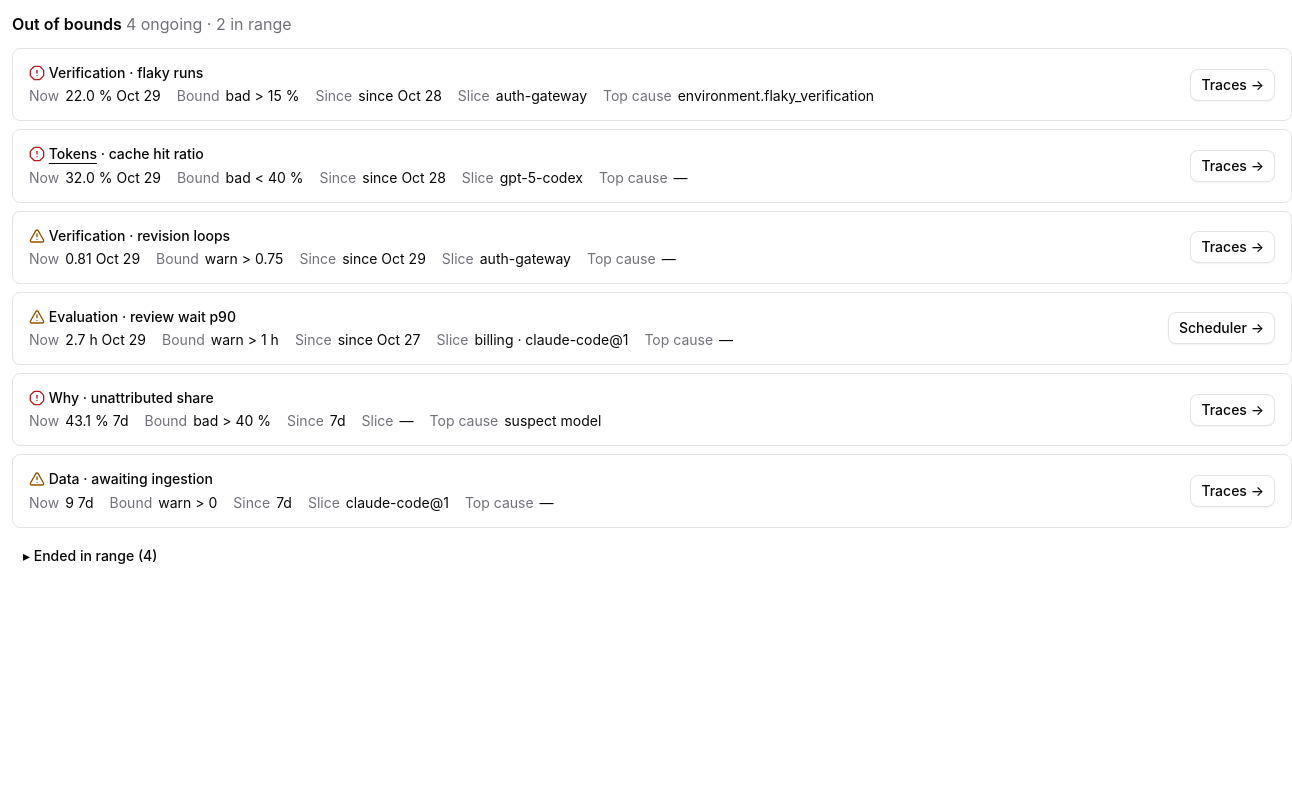
Test: OutOfBounds › shows the four group lines after the disclosure opens
Click the button "▸ Ended in range (4)" at (90, 556), box [12,540,168,572]
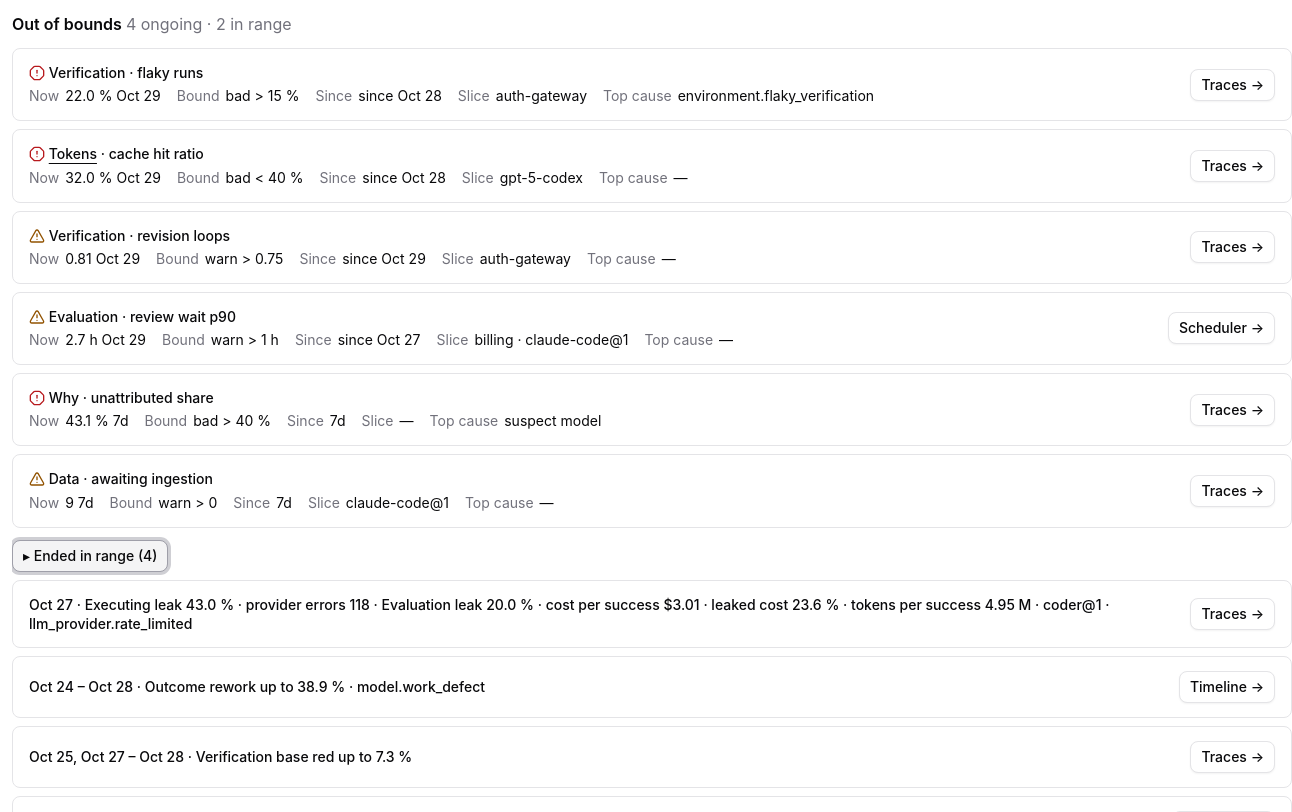
Check: the text "Oct 27 · Executing leak 43.0 % · provider errors 118 · Evaluation leak 20.0 % · cost per success $3.01 · leaked cost 23.6 % · tokens per success 4.95 M · coder@" is shown, box [29,596,1109,632]
Check: the text "Oct 24 – Oct 28 · Outcome rework up to 38.9 % · model.work_defect" is shown, box [29,678,485,695]
Check: the text "Oct 25, Oct 27 – Oct 28 · Verification base red up to 7.3 %" is shown, box [29,748,412,765]
